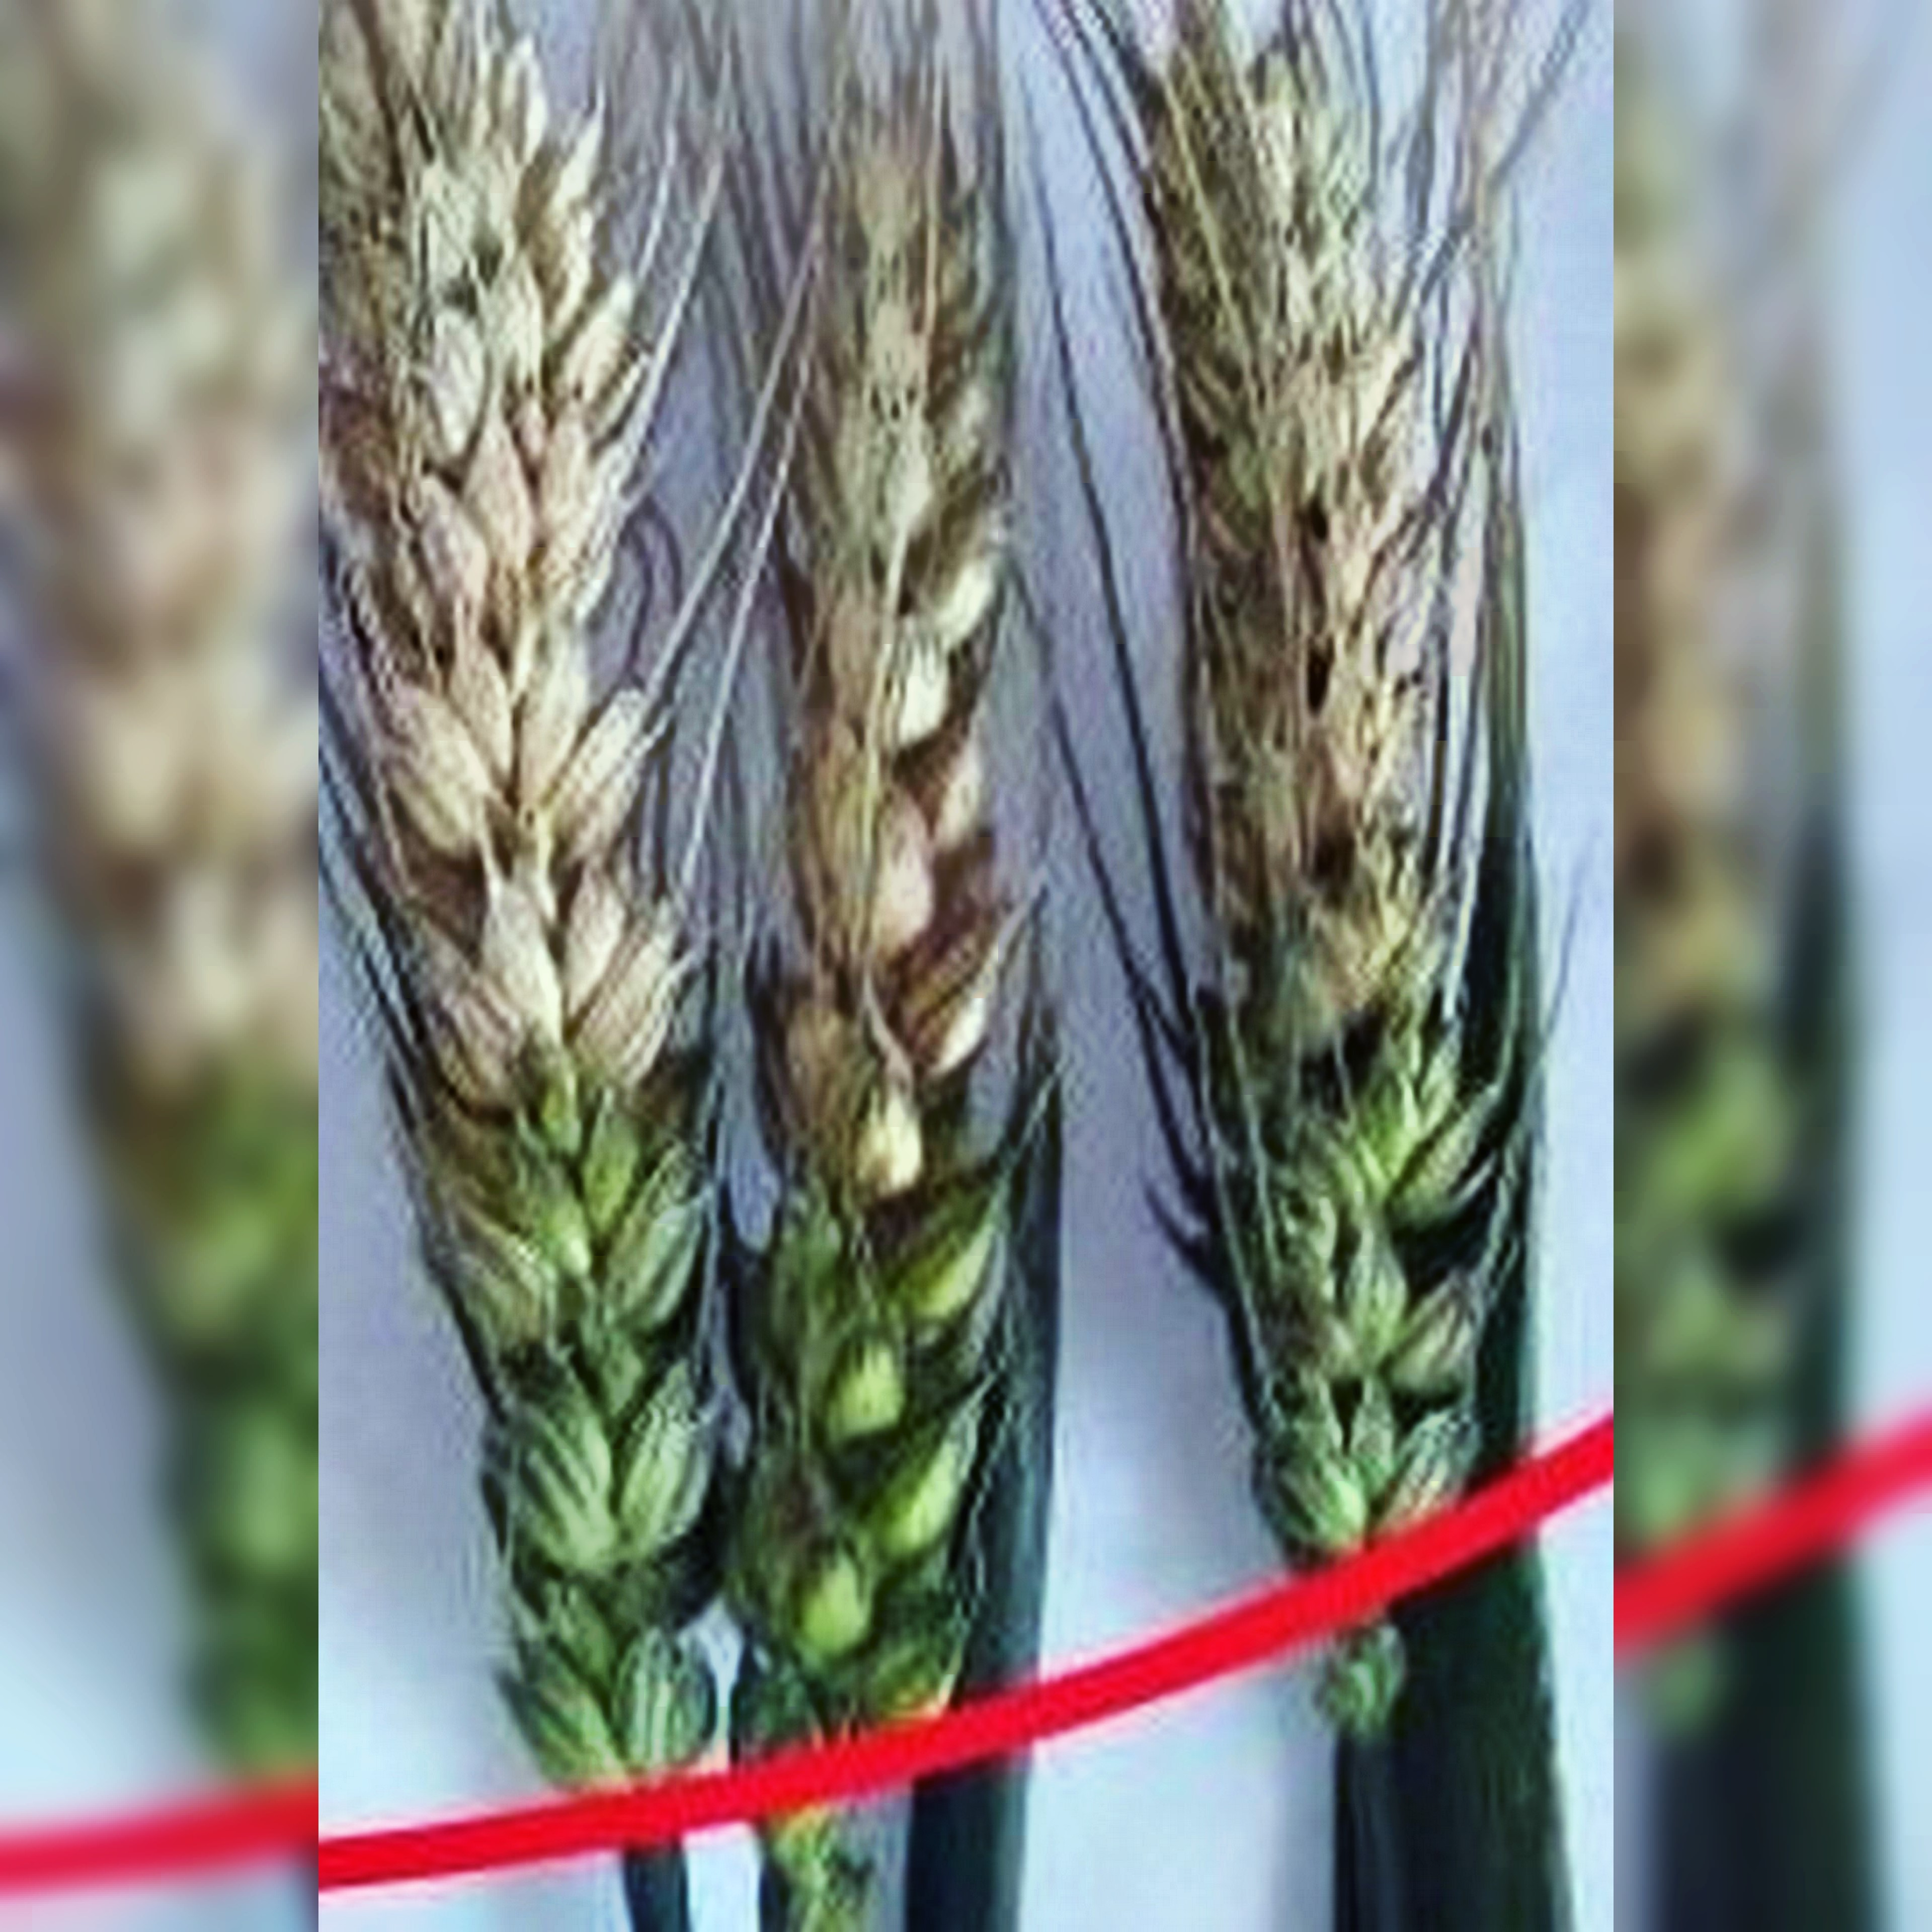Wheat scab: (741, 78, 1479, 1808), (349, 104, 724, 1762)
